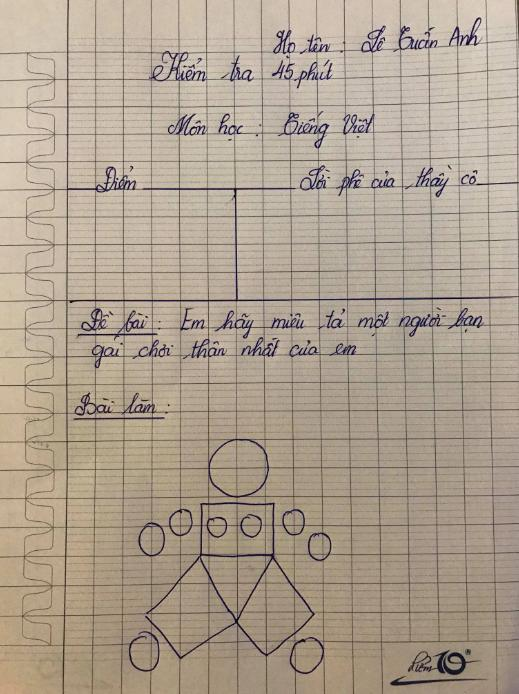text: (78, 304, 486, 342), (88, 334, 359, 372), (272, 15, 486, 61), (165, 108, 377, 152), (146, 49, 334, 91), (297, 163, 481, 203), (405, 648, 485, 680), (72, 390, 159, 418), (95, 162, 140, 195)
